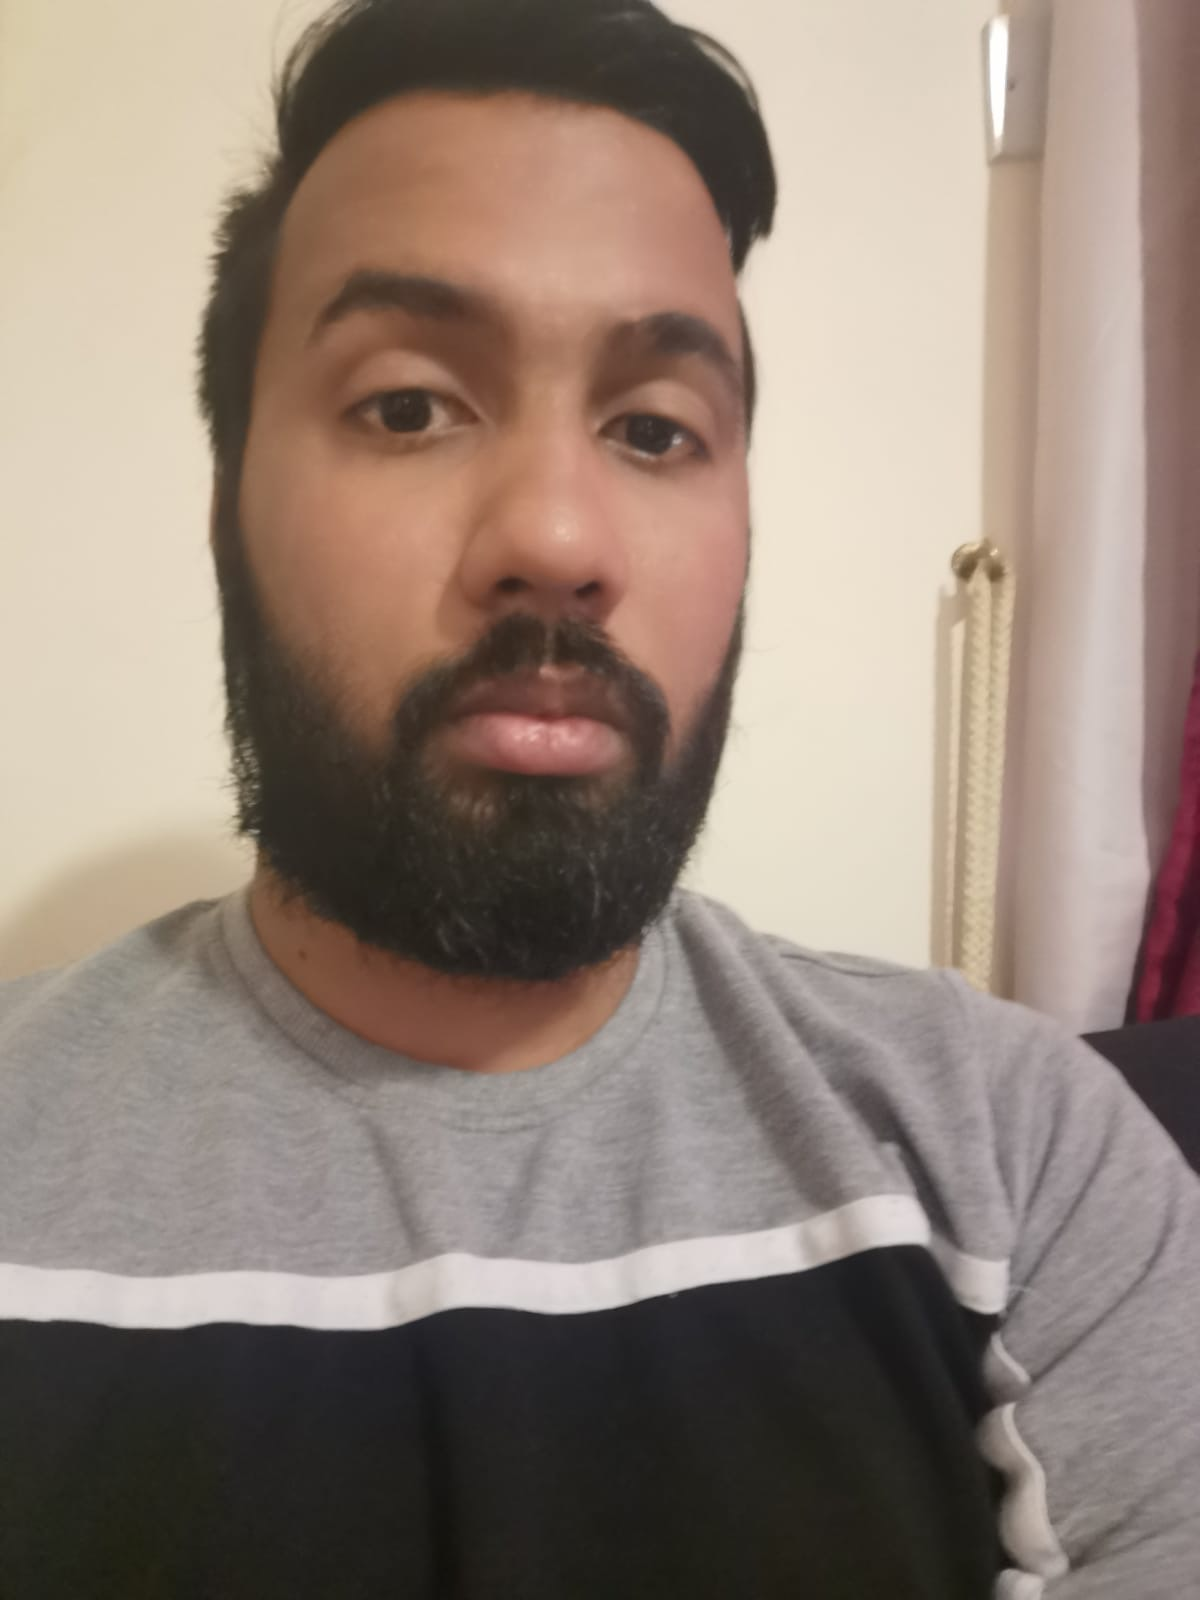Not Sleeping: (308, 329, 758, 509)
